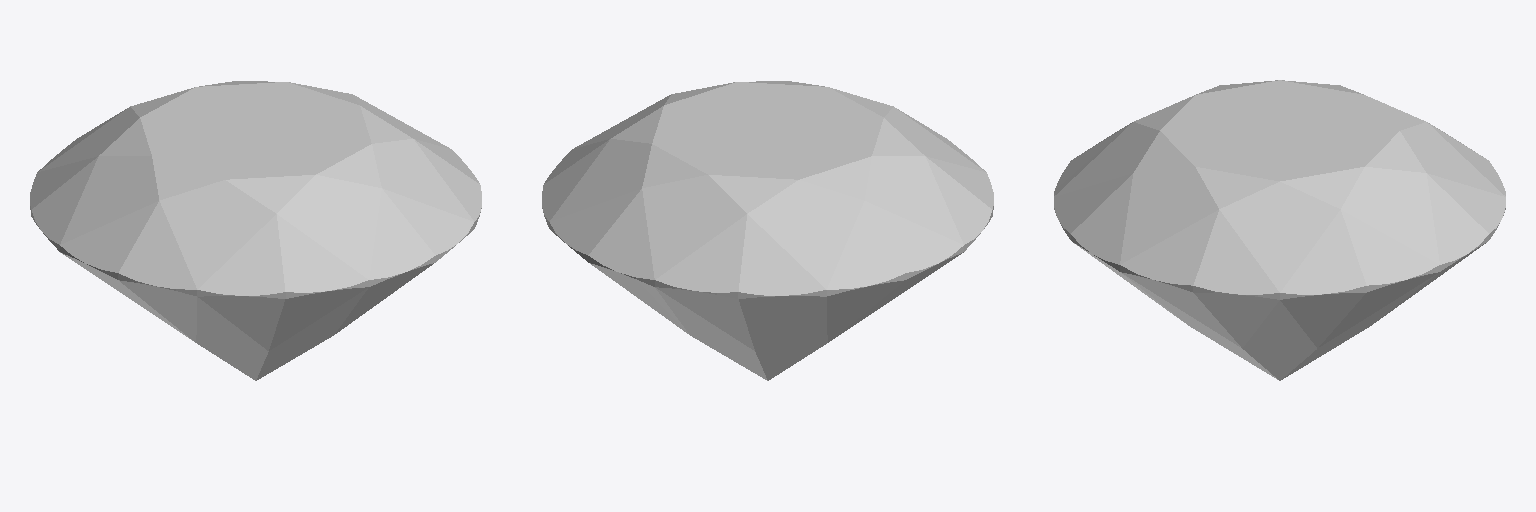
The model's file is diamond.obj.
3 views of the same model, side by side, from view 1: azimuth 30°, elevation 25°; view 2: azimuth 150°, elevation 25°; view 3: azimuth 270°, elevation 25° (orthographic).
Visible parts, largest first — view 1: dobj; view 2: dobj; view 3: dobj.
Part boxes in pixels (bbox=[...]): dobj: bbox=[30, 81, 481, 380]; dobj: bbox=[542, 81, 993, 380]; dobj: bbox=[1054, 80, 1505, 380].
Bounding box in the file's own units: 2 × 1.22 × 2.